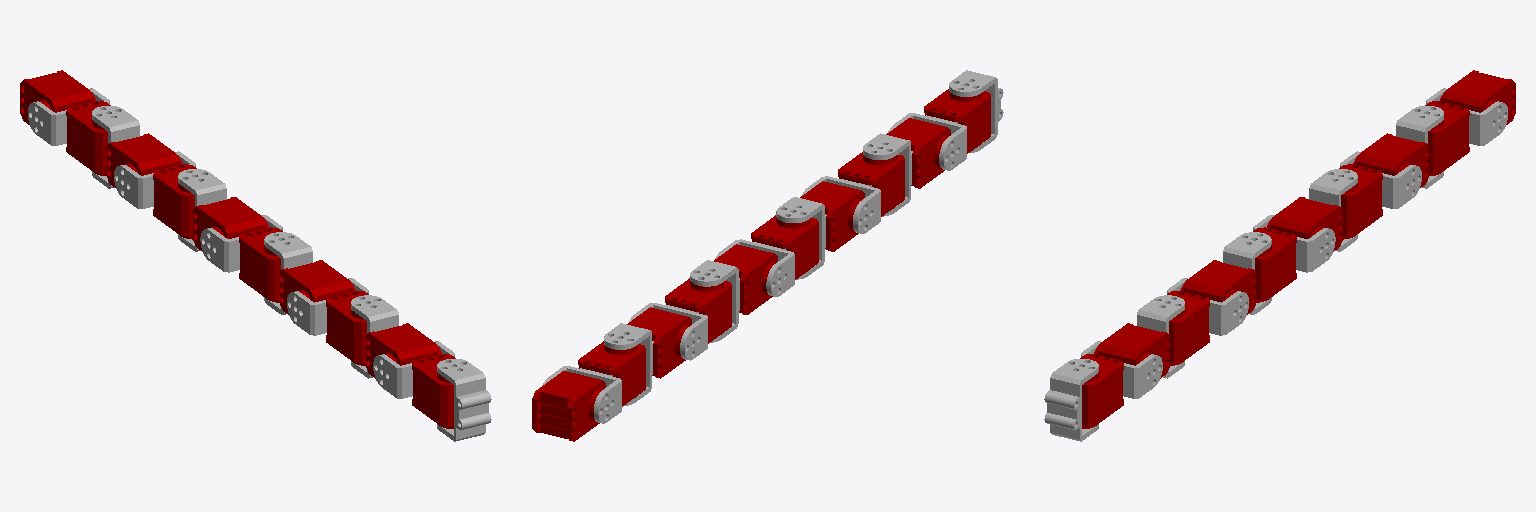
--- Render facts (derived) ---
The picture shows the robot from 3 angles, left to right: view 1: azimuth 30°, elevation 25°; view 2: azimuth 150°, elevation 25°; view 3: azimuth 330°, elevation 25°; orthographic projection.
Robot: test_robot — 21 links, 20 joints (10 revolute, 10 fixed); root link world; default pose: every joint at zero.
Links seen in each view (by area): view 1: bracket_010, dynamixel_105, dynamixel_101, dynamixel_103, dynamixel_102, dynamixel_104, dynamixel_001, dynamixel_003, dynamixel_005, dynamixel_002, dynamixel_004, bracket_007 (+8 smaller); view 2: dynamixel_001, dynamixel_103, dynamixel_101, dynamixel_104, dynamixel_102, dynamixel_105, dynamixel_005, dynamixel_002, dynamixel_004, dynamixel_003, bracket_010, bracket_004 (+8 smaller); view 3: bracket_010, dynamixel_105, dynamixel_101, dynamixel_103, dynamixel_102, dynamixel_104, dynamixel_001, dynamixel_003, dynamixel_005, dynamixel_002, dynamixel_004, bracket_007 (+8 smaller).
Link boxes in pixels (<box>): bracket_010: <box>437,359,491,441</box>; dynamixel_105: <box>412,354,455,428</box>; dynamixel_101: <box>66,101,110,175</box>; dynamixel_103: <box>239,227,282,302</box>; dynamixel_102: <box>153,164,196,239</box>; dynamixel_104: <box>326,291,368,365</box>; dynamixel_001: <box>20,70,95,124</box>; dynamixel_003: <box>193,197,268,251</box>; dynamixel_005: <box>366,323,441,378</box>; dynamixel_002: <box>107,133,182,187</box>; dynamixel_004: <box>280,260,355,314</box>; bracket_007: <box>287,278,368,335</box>; dynamixel_001: <box>532,371,605,441</box>; dynamixel_103: <box>751,215,818,279</box>; dynamixel_101: <box>578,341,645,406</box>; dynamixel_104: <box>838,152,904,216</box>; dynamixel_102: <box>665,278,731,343</box>; dynamixel_105: <box>924,89,990,153</box>; dynamixel_005: <box>886,118,950,188</box>; dynamixel_002: <box>627,307,691,378</box>; dynamixel_004: <box>800,181,864,251</box>; dynamixel_003: <box>714,244,777,314</box>; bracket_010: <box>949,70,1003,152</box>; bracket_004: <box>690,260,739,342</box>; bracket_010: <box>1044,359,1098,441</box>; dynamixel_105: <box>1080,354,1123,428</box>; dynamixel_101: <box>1425,101,1469,175</box>; dynamixel_103: <box>1253,227,1296,302</box>; dynamixel_102: <box>1339,164,1382,239</box>; dynamixel_104: <box>1167,291,1209,365</box>; dynamixel_001: <box>1440,70,1515,124</box>; dynamixel_003: <box>1267,197,1342,251</box>; dynamixel_005: <box>1094,323,1169,378</box>; dynamixel_002: <box>1353,133,1428,187</box>; dynamixel_004: <box>1180,260,1255,314</box>; bracket_007: <box>1167,278,1248,335</box>.
Size in the robot's own frame: 0.036 by 0.4632 by 0.036 metres.
20 mesh visuals loaded from 2 distinct referenced files (2 binary STL).

The robot description file, URDF, robot "test_robot":
<?xml version="1.0" encoding="utf-8"?>
<!-- =================================================================================== -->
<!-- |    This document was autogenerated by xacro from urdf/snake_stl.xacro           | -->
<!-- |    EDITING THIS FILE BY HAND IS NOT RECOMMENDED                                 | -->
<!-- =================================================================================== -->
<robot name="test_robot">
  <link name="world"/>
  <!-- マクロ関数の定義 -->
  <!-- link名 -->
  <link name="dynamixel_001">
    <!-- 見た目 -->
    <visual>
      <geometry>
        <mesh filename="package://Rviz_snake/mesh/dynamixel.stl"/>
      </geometry>
      <material name="red">
        <color rgba="0.7 0.0 0.0 1.0"/>
      </material>
      <origin rpy="0 0 0" xyz="0 0 0"/>
    </visual>
    <!--物理的特性-->
    <!--干渉-->
    <collision>
      <geometry>
        <mesh filename="package://Rviz_snake/mesh/dynamixel.stl"/>
      </geometry>
    </collision>
    <!--慣性-->
    <inertial>
      <mass value="0.023967239474"/>
      <inertia ixx="3.5392036062e-06" ixy="0" ixz="0" iyy="3.2067700889e-06" iyz="0" izz="2.5171567719e-06"/>
    </inertial>
  </link>
  <!-- link名 -->
  <link name="dynamixel_101">
    <!-- 見た目 -->
    <visual>
      <geometry>
        <mesh filename="package://Rviz_snake/mesh/dynamixel.stl"/>
      </geometry>
      <material name="red">
        <color rgba="0.7 0.0 0.0 1.0"/>
      </material>
      <origin rpy="0 0 0" xyz="0 0 0"/>
    </visual>
    <!--物理的特性-->
    <!--干渉-->
    <collision>
      <geometry>
        <mesh filename="package://Rviz_snake/mesh/dynamixel.stl"/>
      </geometry>
    </collision>
    <!--慣性-->
    <inertial>
      <mass value="0.023967239474"/>
      <inertia ixx="3.5392036062e-06" ixy="0" ixz="0" iyy="3.2067700889e-06" iyz="0" izz="2.5171567719e-06"/>
    </inertial>
  </link>
  <!-- link名 -->
  <link name="dynamixel_002">
    <!-- 見た目 -->
    <visual>
      <geometry>
        <mesh filename="package://Rviz_snake/mesh/dynamixel.stl"/>
      </geometry>
      <material name="red">
        <color rgba="0.7 0.0 0.0 1.0"/>
      </material>
      <origin rpy="0 0 0" xyz="0 0 0"/>
    </visual>
    <!--物理的特性-->
    <!--干渉-->
    <collision>
      <geometry>
        <mesh filename="package://Rviz_snake/mesh/dynamixel.stl"/>
      </geometry>
    </collision>
    <!--慣性-->
    <inertial>
      <mass value="0.023967239474"/>
      <inertia ixx="3.5392036062e-06" ixy="0" ixz="0" iyy="3.2067700889e-06" iyz="0" izz="2.5171567719e-06"/>
    </inertial>
  </link>
  <!-- link名 -->
  <link name="dynamixel_102">
    <!-- 見た目 -->
    <visual>
      <geometry>
        <mesh filename="package://Rviz_snake/mesh/dynamixel.stl"/>
      </geometry>
      <material name="red">
        <color rgba="0.7 0.0 0.0 1.0"/>
      </material>
      <origin rpy="0 0 0" xyz="0 0 0"/>
    </visual>
    <!--物理的特性-->
    <!--干渉-->
    <collision>
      <geometry>
        <mesh filename="package://Rviz_snake/mesh/dynamixel.stl"/>
      </geometry>
    </collision>
    <!--慣性-->
    <inertial>
      <mass value="0.023967239474"/>
      <inertia ixx="3.5392036062e-06" ixy="0" ixz="0" iyy="3.2067700889e-06" iyz="0" izz="2.5171567719e-06"/>
    </inertial>
  </link>
  <!-- link名 -->
  <link name="dynamixel_003">
    <!-- 見た目 -->
    <visual>
      <geometry>
        <mesh filename="package://Rviz_snake/mesh/dynamixel.stl"/>
      </geometry>
      <material name="red">
        <color rgba="0.7 0.0 0.0 1.0"/>
      </material>
      <origin rpy="0 0 0" xyz="0 0 0"/>
    </visual>
    <!--物理的特性-->
    <!--干渉-->
    <collision>
      <geometry>
        <mesh filename="package://Rviz_snake/mesh/dynamixel.stl"/>
      </geometry>
    </collision>
    <!--慣性-->
    <inertial>
      <mass value="0.023967239474"/>
      <inertia ixx="3.5392036062e-06" ixy="0" ixz="0" iyy="3.2067700889e-06" iyz="0" izz="2.5171567719e-06"/>
    </inertial>
  </link>
  <!-- link名 -->
  <link name="dynamixel_103">
    <!-- 見た目 -->
    <visual>
      <geometry>
        <mesh filename="package://Rviz_snake/mesh/dynamixel.stl"/>
      </geometry>
      <material name="red">
        <color rgba="0.7 0.0 0.0 1.0"/>
      </material>
      <origin rpy="0 0 0" xyz="0 0 0"/>
    </visual>
    <!--物理的特性-->
    <!--干渉-->
    <collision>
      <geometry>
        <mesh filename="package://Rviz_snake/mesh/dynamixel.stl"/>
      </geometry>
    </collision>
    <!--慣性-->
    <inertial>
      <mass value="0.023967239474"/>
      <inertia ixx="3.5392036062e-06" ixy="0" ixz="0" iyy="3.2067700889e-06" iyz="0" izz="2.5171567719e-06"/>
    </inertial>
  </link>
  <!-- link名 -->
  <link name="dynamixel_004">
    <!-- 見た目 -->
    <visual>
      <geometry>
        <mesh filename="package://Rviz_snake/mesh/dynamixel.stl"/>
      </geometry>
      <material name="red">
        <color rgba="0.7 0.0 0.0 1.0"/>
      </material>
      <origin rpy="0 0 0" xyz="0 0 0"/>
    </visual>
    <!--物理的特性-->
    <!--干渉-->
    <collision>
      <geometry>
        <mesh filename="package://Rviz_snake/mesh/dynamixel.stl"/>
      </geometry>
    </collision>
    <!--慣性-->
    <inertial>
      <mass value="0.023967239474"/>
      <inertia ixx="3.5392036062e-06" ixy="0" ixz="0" iyy="3.2067700889e-06" iyz="0" izz="2.5171567719e-06"/>
    </inertial>
  </link>
  <!-- link名 -->
  <link name="dynamixel_104">
    <!-- 見た目 -->
    <visual>
      <geometry>
        <mesh filename="package://Rviz_snake/mesh/dynamixel.stl"/>
      </geometry>
      <material name="red">
        <color rgba="0.7 0.0 0.0 1.0"/>
      </material>
      <origin rpy="0 0 0" xyz="0 0 0"/>
    </visual>
    <!--物理的特性-->
    <!--干渉-->
    <collision>
      <geometry>
        <mesh filename="package://Rviz_snake/mesh/dynamixel.stl"/>
      </geometry>
    </collision>
    <!--慣性-->
    <inertial>
      <mass value="0.023967239474"/>
      <inertia ixx="3.5392036062e-06" ixy="0" ixz="0" iyy="3.2067700889e-06" iyz="0" izz="2.5171567719e-06"/>
    </inertial>
  </link>
  <!-- link名 -->
  <link name="dynamixel_005">
    <!-- 見た目 -->
    <visual>
      <geometry>
        <mesh filename="package://Rviz_snake/mesh/dynamixel.stl"/>
      </geometry>
      <material name="red">
        <color rgba="0.7 0.0 0.0 1.0"/>
      </material>
      <origin rpy="0 0 0" xyz="0 0 0"/>
    </visual>
    <!--物理的特性-->
    <!--干渉-->
    <collision>
      <geometry>
        <mesh filename="package://Rviz_snake/mesh/dynamixel.stl"/>
      </geometry>
    </collision>
    <!--慣性-->
    <inertial>
      <mass value="0.023967239474"/>
      <inertia ixx="3.5392036062e-06" ixy="0" ixz="0" iyy="3.2067700889e-06" iyz="0" izz="2.5171567719e-06"/>
    </inertial>
  </link>
  <!-- link名 -->
  <link name="dynamixel_105">
    <!-- 見た目 -->
    <visual>
      <geometry>
        <mesh filename="package://Rviz_snake/mesh/dynamixel.stl"/>
      </geometry>
      <material name="red">
        <color rgba="0.7 0.0 0.0 1.0"/>
      </material>
      <origin rpy="0 0 0" xyz="0 0 0"/>
    </visual>
    <!--物理的特性-->
    <!--干渉-->
    <collision>
      <geometry>
        <mesh filename="package://Rviz_snake/mesh/dynamixel.stl"/>
      </geometry>
    </collision>
    <!--慣性-->
    <inertial>
      <mass value="0.023967239474"/>
      <inertia ixx="3.5392036062e-06" ixy="0" ixz="0" iyy="3.2067700889e-06" iyz="0" izz="2.5171567719e-06"/>
    </inertial>
  </link>
  <link name="bracket_001">
    <visual>
      <geometry>
        <mesh filename="package://Rviz_snake/mesh/adaptor.stl"/>
      </geometry>
      <material name="silver">
        <color rgba="0.75 0.75 0.75 1"/>
      </material>
      <origin rpy="0 0 0" xyz="0 0 0"/>
    </visual>
    <!--物理的特性-->
    <!--干渉-->
    <collision>
      <geometry>
        <mesh filename="package://Rviz_snake/mesh/adaptor.stl"/>
      </geometry>
    </collision>
    <!--慣性-->
    <inertial>
      <mass value="0.0060293114415"/>
      <inertia ixx="1.4057440439e-06" ixy="0" ixz="0" iyy="1.144769055e-06" iyz="0" izz="5.779531603e-07"/>
    </inertial>
  </link>
  <link name="bracket_002">
    <visual>
      <geometry>
        <mesh filename="package://Rviz_snake/mesh/adaptor.stl"/>
      </geometry>
      <material name="silver">
        <color rgba="0.75 0.75 0.75 1"/>
      </material>
      <origin rpy="0 0 0" xyz="0 0 0"/>
    </visual>
    <!--物理的特性-->
    <!--干渉-->
    <collision>
      <geometry>
        <mesh filename="package://Rviz_snake/mesh/adaptor.stl"/>
      </geometry>
    </collision>
    <!--慣性-->
    <inertial>
      <mass value="0.0060293114415"/>
      <inertia ixx="1.4057440439e-06" ixy="0" ixz="0" iyy="1.144769055e-06" iyz="0" izz="5.779531603e-07"/>
    </inertial>
  </link>
  <link name="bracket_003">
    <visual>
      <geometry>
        <mesh filename="package://Rviz_snake/mesh/adaptor.stl"/>
      </geometry>
      <material name="silver">
        <color rgba="0.75 0.75 0.75 1"/>
      </material>
      <origin rpy="0 0 0" xyz="0 0 0"/>
    </visual>
    <!--物理的特性-->
    <!--干渉-->
    <collision>
      <geometry>
        <mesh filename="package://Rviz_snake/mesh/adaptor.stl"/>
      </geometry>
    </collision>
    <!--慣性-->
    <inertial>
      <mass value="0.0060293114415"/>
      <inertia ixx="1.4057440439e-06" ixy="0" ixz="0" iyy="1.144769055e-06" iyz="0" izz="5.779531603e-07"/>
    </inertial>
  </link>
  <link name="bracket_004">
    <visual>
      <geometry>
        <mesh filename="package://Rviz_snake/mesh/adaptor.stl"/>
      </geometry>
      <material name="silver">
        <color rgba="0.75 0.75 0.75 1"/>
      </material>
      <origin rpy="0 0 0" xyz="0 0 0"/>
    </visual>
    <!--物理的特性-->
    <!--干渉-->
    <collision>
      <geometry>
        <mesh filename="package://Rviz_snake/mesh/adaptor.stl"/>
      </geometry>
    </collision>
    <!--慣性-->
    <inertial>
      <mass value="0.0060293114415"/>
      <inertia ixx="1.4057440439e-06" ixy="0" ixz="0" iyy="1.144769055e-06" iyz="0" izz="5.779531603e-07"/>
    </inertial>
  </link>
  <link name="bracket_005">
    <visual>
      <geometry>
        <mesh filename="package://Rviz_snake/mesh/adaptor.stl"/>
      </geometry>
      <material name="silver">
        <color rgba="0.75 0.75 0.75 1"/>
      </material>
      <origin rpy="0 0 0" xyz="0 0 0"/>
    </visual>
    <!--物理的特性-->
    <!--干渉-->
    <collision>
      <geometry>
        <mesh filename="package://Rviz_snake/mesh/adaptor.stl"/>
      </geometry>
    </collision>
    <!--慣性-->
    <inertial>
      <mass value="0.0060293114415"/>
      <inertia ixx="1.4057440439e-06" ixy="0" ixz="0" iyy="1.144769055e-06" iyz="0" izz="5.779531603e-07"/>
    </inertial>
  </link>
  <link name="bracket_006">
    <visual>
      <geometry>
        <mesh filename="package://Rviz_snake/mesh/adaptor.stl"/>
      </geometry>
      <material name="silver">
        <color rgba="0.75 0.75 0.75 1"/>
      </material>
      <origin rpy="0 0 0" xyz="0 0 0"/>
    </visual>
    <!--物理的特性-->
    <!--干渉-->
    <collision>
      <geometry>
        <mesh filename="package://Rviz_snake/mesh/adaptor.stl"/>
      </geometry>
    </collision>
    <!--慣性-->
    <inertial>
      <mass value="0.0060293114415"/>
      <inertia ixx="1.4057440439e-06" ixy="0" ixz="0" iyy="1.144769055e-06" iyz="0" izz="5.779531603e-07"/>
    </inertial>
  </link>
  <link name="bracket_007">
    <visual>
      <geometry>
        <mesh filename="package://Rviz_snake/mesh/adaptor.stl"/>
      </geometry>
      <material name="silver">
        <color rgba="0.75 0.75 0.75 1"/>
      </material>
      <origin rpy="0 0 0" xyz="0 0 0"/>
    </visual>
    <!--物理的特性-->
    <!--干渉-->
    <collision>
      <geometry>
        <mesh filename="package://Rviz_snake/mesh/adaptor.stl"/>
      </geometry>
    </collision>
    <!--慣性-->
    <inertial>
      <mass value="0.0060293114415"/>
      <inertia ixx="1.4057440439e-06" ixy="0" ixz="0" iyy="1.144769055e-06" iyz="0" izz="5.779531603e-07"/>
    </inertial>
  </link>
  <link name="bracket_008">
    <visual>
      <geometry>
        <mesh filename="package://Rviz_snake/mesh/adaptor.stl"/>
      </geometry>
      <material name="silver">
        <color rgba="0.75 0.75 0.75 1"/>
      </material>
      <origin rpy="0 0 0" xyz="0 0 0"/>
    </visual>
    <!--物理的特性-->
    <!--干渉-->
    <collision>
      <geometry>
        <mesh filename="package://Rviz_snake/mesh/adaptor.stl"/>
      </geometry>
    </collision>
    <!--慣性-->
    <inertial>
      <mass value="0.0060293114415"/>
      <inertia ixx="1.4057440439e-06" ixy="0" ixz="0" iyy="1.144769055e-06" iyz="0" izz="5.779531603e-07"/>
    </inertial>
  </link>
  <link name="bracket_009">
    <visual>
      <geometry>
        <mesh filename="package://Rviz_snake/mesh/adaptor.stl"/>
      </geometry>
      <material name="silver">
        <color rgba="0.75 0.75 0.75 1"/>
      </material>
      <origin rpy="0 0 0" xyz="0 0 0"/>
    </visual>
    <!--物理的特性-->
    <!--干渉-->
    <collision>
      <geometry>
        <mesh filename="package://Rviz_snake/mesh/adaptor.stl"/>
      </geometry>
    </collision>
    <!--慣性-->
    <inertial>
      <mass value="0.0060293114415"/>
      <inertia ixx="1.4057440439e-06" ixy="0" ixz="0" iyy="1.144769055e-06" iyz="0" izz="5.779531603e-07"/>
    </inertial>
  </link>
  <link name="bracket_010">
    <visual>
      <geometry>
        <mesh filename="package://Rviz_snake/mesh/adaptor.stl"/>
      </geometry>
      <material name="silver">
        <color rgba="0.75 0.75 0.75 1"/>
      </material>
      <origin rpy="0 0 0" xyz="0 0 0"/>
    </visual>
    <!--物理的特性-->
    <!--干渉-->
    <collision>
      <geometry>
        <mesh filename="package://Rviz_snake/mesh/adaptor.stl"/>
      </geometry>
    </collision>
    <!--慣性-->
    <inertial>
      <mass value="0.0060293114415"/>
      <inertia ixx="1.4057440439e-06" ixy="0" ixz="0" iyy="1.144769055e-06" iyz="0" izz="5.779531603e-07"/>
    </inertial>
  </link>
  <!--ジョイントの定義-->
  <!--ワールドとリンク1-->
  <joint name="fixed_000" type="fixed">
    <parent link="world"/>
    <child link="dynamixel_001"/>
    <origin rpy="0 0 -1.57079632679" xyz="0 0 0"/>
    <limit effort="0" lower="-1.57079632679" upper="1.57079632679" velocity="0"/>
  </joint>
  <joint name="joint_001" type="revolute">
    <axis xyz="0 1 0"/>
    <parent link="dynamixel_001"/>
    <child link="bracket_001"/>
    <origin rpy="0 0 0" xyz="0.0248 0 0"/>
    <limit effort="0" lower="-1.57079632679" upper="1.57079632679" velocity="0"/>
  </joint>
  <joint name="fixed_001" type="fixed">
    <parent link="bracket_001"/>
    <child link="dynamixel_101"/>
    <origin rpy="1.57079632679 0 0" xyz="0.021 0 0"/>
    <limit effort="0" lower="-1.57079632679" upper="1.57079632679" velocity="0"/>
  </joint>
  <joint name="joint_002" type="revolute">
    <axis xyz="0 1 0"/>
    <parent link="dynamixel_101"/>
    <child link="bracket_002"/>
    <origin rpy="0 0 0" xyz="0.0248 0 0"/>
    <limit effort="0" lower="-1.57079632679" upper="1.57079632679" velocity="0"/>
  </joint>
  <joint name="fixed_002" type="fixed">
    <parent link="bracket_002"/>
    <child link="dynamixel_002"/>
    <origin rpy="-1.57079632679 0 0" xyz="0.021 0 0"/>
    <limit effort="0" lower="-1.57079632679" upper="1.57079632679" velocity="0"/>
  </joint>
  <joint name="joint_003" type="revolute">
    <axis xyz="0 1 0"/>
    <parent link="dynamixel_002"/>
    <child link="bracket_003"/>
    <origin rpy="0 0 0" xyz="0.0248 0 0"/>
    <limit effort="0" lower="-1.57079632679" upper="1.57079632679" velocity="0"/>
  </joint>
  <joint name="fixed_003" type="fixed">
    <parent link="bracket_003"/>
    <child link="dynamixel_102"/>
    <origin rpy="1.57079632679 0 0" xyz="0.021 0 0"/>
    <limit effort="0" lower="-1.57079632679" upper="1.57079632679" velocity="0"/>
  </joint>
  <joint name="joint_004" type="revolute">
    <axis xyz="0 1 0"/>
    <parent link="dynamixel_102"/>
    <child link="bracket_004"/>
    <origin rpy="0 0 0" xyz="0.0248 0 0"/>
    <limit effort="0" lower="-1.57079632679" upper="1.57079632679" velocity="0"/>
  </joint>
  <joint name="fixed_004" type="fixed">
    <parent link="bracket_004"/>
    <child link="dynamixel_003"/>
    <origin rpy="-1.57079632679 0 0" xyz="0.021 0 0"/>
    <limit effort="0" lower="-1.57079632679" upper="1.57079632679" velocity="0"/>
  </joint>
  <joint name="joint_005" type="revolute">
    <axis xyz="0 1 0"/>
    <parent link="dynamixel_003"/>
    <child link="bracket_005"/>
    <origin rpy="0 0 0" xyz="0.0248 0 0"/>
    <limit effort="0" lower="-1.57079632679" upper="1.57079632679" velocity="0"/>
  </joint>
  <joint name="fixed_005" type="fixed">
    <parent link="bracket_005"/>
    <child link="dynamixel_103"/>
    <origin rpy="1.57079632679 0 0" xyz="0.021 0 0"/>
    <limit effort="0" lower="-1.57079632679" upper="1.57079632679" velocity="0"/>
  </joint>
  <joint name="joint_006" type="revolute">
    <axis xyz="0 1 0"/>
    <parent link="dynamixel_103"/>
    <child link="bracket_006"/>
    <origin rpy="0 0 0" xyz="0.0248 0 0"/>
    <limit effort="0" lower="-1.57079632679" upper="1.57079632679" velocity="0"/>
  </joint>
  <joint name="fixed_006" type="fixed">
    <parent link="bracket_006"/>
    <child link="dynamixel_004"/>
    <origin rpy="-1.57079632679 0 0" xyz="0.021 0 0"/>
    <limit effort="0" lower="-1.57079632679" upper="1.57079632679" velocity="0"/>
  </joint>
  <joint name="joint_007" type="revolute">
    <axis xyz="0 1 0"/>
    <parent link="dynamixel_004"/>
    <child link="bracket_007"/>
    <origin rpy="0 0 0" xyz="0.0248 0 0"/>
    <limit effort="0" lower="-1.57079632679" upper="1.57079632679" velocity="0"/>
  </joint>
  <joint name="fixed_007" type="fixed">
    <parent link="bracket_007"/>
    <child link="dynamixel_104"/>
    <origin rpy="1.57079632679 0 0" xyz="0.021 0 0"/>
    <limit effort="0" lower="-1.57079632679" upper="1.57079632679" velocity="0"/>
  </joint>
  <joint name="joint_008" type="revolute">
    <axis xyz="0 1 0"/>
    <parent link="dynamixel_104"/>
    <child link="bracket_008"/>
    <origin rpy="0 0 0" xyz="0.0248 0 0"/>
    <limit effort="0" lower="-1.57079632679" upper="1.57079632679" velocity="0"/>
  </joint>
  <joint name="fixed_008" type="fixed">
    <parent link="bracket_008"/>
    <child link="dynamixel_005"/>
    <origin rpy="-1.57079632679 0 0" xyz="0.021 0 0"/>
    <limit effort="0" lower="-1.57079632679" upper="1.57079632679" velocity="0"/>
  </joint>
  <joint name="joint_009" type="revolute">
    <axis xyz="0 1 0"/>
    <parent link="dynamixel_005"/>
    <child link="bracket_009"/>
    <origin rpy="0 0 0" xyz="0.0248 0 0"/>
    <limit effort="0" lower="-1.57079632679" upper="1.57079632679" velocity="0"/>
  </joint>
  <joint name="fixed_009" type="fixed">
    <parent link="bracket_009"/>
    <child link="dynamixel_105"/>
    <origin rpy="1.57079632679 0 0" xyz="0.021 0 0"/>
    <limit effort="0" lower="-1.57079632679" upper="1.57079632679" velocity="0"/>
  </joint>
  <joint name="joint_010" type="revolute">
    <axis xyz="0 1 0"/>
    <parent link="dynamixel_105"/>
    <child link="bracket_010"/>
    <origin rpy="0 0 0" xyz="0.0248 0 0"/>
    <limit effort="0" lower="-1.57079632679" upper="1.57079632679" velocity="0"/>
  </joint>
  <transmission name="motor_001">
    <type>transmission_interface/SimpleTransmission</type>
    <!--関節の指定-->
    <joint name="joint_001">
      <hardwareInterface>hardware_interface/PositionJointInterface</hardwareInterface>
    </joint>
    <!--アクチュエータの定義（ギア比1の減速機）-->
    <actuator name="trans_001">
      <hardwareInterface>PositionJointInterface</hardwareInterface>
      <mechanicalReduction>1</mechanicalReduction>
    </actuator>
  </transmission>
  <transmission name="motor_002">
    <type>transmission_interface/SimpleTransmission</type>
    <!--関節の指定-->
    <joint name="joint_002">
      <hardwareInterface>hardware_interface/PositionJointInterface</hardwareInterface>
    </joint>
    <!--アクチュエータの定義（ギア比1の減速機）-->
    <actuator name="trans_002">
      <hardwareInterface>PositionJointInterface</hardwareInterface>
      <mechanicalReduction>1</mechanicalReduction>
    </actuator>
  </transmission>
  <transmission name="motor_003">
    <type>transmission_interface/SimpleTransmission</type>
    <!--関節の指定-->
    <joint name="joint_003">
      <hardwareInterface>hardware_interface/PositionJointInterface</hardwareInterface>
    </joint>
    <!--アクチュエータの定義（ギア比1の減速機）-->
    <actuator name="trans_003">
      <hardwareInterface>PositionJointInterface</hardwareInterface>
      <mechanicalReduction>1</mechanicalReduction>
    </actuator>
  </transmission>
  <transmission name="motor_004">
    <type>transmission_interface/SimpleTransmission</type>
    <!--関節の指定-->
    <joint name="joint_004">
      <hardwareInterface>hardware_interface/PositionJointInterface</hardwareInterface>
    </joint>
    <!--アクチュエータの定義（ギア比1の減速機）-->
    <actuator name="trans_004">
      <hardwareInterface>PositionJointInterface</hardwareInterface>
      <mechanicalReduction>1</mechanicalReduction>
    </actuator>
  </transmission>
  <transmission name="motor_005">
    <type>transmission_interface/SimpleTransmission</type>
    <!--関節の指定-->
    <joint name="joint_005">
      <hardwareInterface>hardware_interface/PositionJointInterface</hardwareInterface>
    </joint>
    <!--アクチュエータの定義（ギア比1の減速機）-->
    <actuator name="trans_005">
      <hardwareInterface>PositionJointInterface</hardwareInterface>
      <mechanicalReduction>1</mechanicalReduction>
    </actuator>
  </transmission>
  <transmission name="motor_006">
    <type>transmission_interface/SimpleTransmission</type>
    <!--関節の指定-->
    <joint name="joint_006">
      <hardwareInterface>hardware_interface/PositionJointInterface</hardwareInterface>
    </joint>
    <!--アクチュエータの定義（ギア比1の減速機）-->
    <actuator name="trans_006">
      <hardwareInterface>PositionJointInterface</hardwareInterface>
      <mechanicalReduction>1</mechanicalReduction>
    </actuator>
  </transmission>
  <transmission name="motor_007">
    <type>transmission_interface/SimpleTransmission</type>
    <!--関節の指定-->
    <joint name="joint_007">
      <hardwareInterface>hardware_interface/PositionJointInterface</hardwareInterface>
    </joint>
    <!--アクチュエータの定義（ギア比1の減速機）-->
    <actuator name="trans_007">
      <hardwareInterface>PositionJointInterface</hardwareInterface>
      <mechanicalReduction>1</mechanicalReduction>
    </actuator>
  </transmission>
  <transmission name="motor_008">
    <type>transmission_interface/SimpleTransmission</type>
    <!--関節の指定-->
    <joint name="joint_008">
      <hardwareInterface>hardware_interface/PositionJointInterface</hardwareInterface>
    </joint>
    <!--アクチュエータの定義（ギア比1の減速機）-->
    <actuator name="trans_008">
      <hardwareInterface>PositionJointInterface</hardwareInterface>
      <mechanicalReduction>1</mechanicalReduction>
    </actuator>
  </transmission>
  <transmission name="motor_009">
    <type>transmission_interface/SimpleTransmission</type>
    <!--関節の指定-->
    <joint name="joint_009">
      <hardwareInterface>hardware_interface/PositionJointInterface</hardwareInterface>
    </joint>
    <!--アクチュエータの定義（ギア比1の減速機）-->
    <actuator name="trans_009">
      <hardwareInterface>PositionJointInterface</hardwareInterface>
      <mechanicalReduction>1</mechanicalReduction>
    </actuator>
  </transmission>
  <transmission name="motor_010">
    <type>transmission_interface/SimpleTransmission</type>
    <!--関節の指定-->
    <joint name="joint_010">
      <hardwareInterface>hardware_interface/PositionJointInterface</hardwareInterface>
    </joint>
    <!--アクチュエータの定義（ギア比1の減速機）-->
    <actuator name="trans_010">
      <hardwareInterface>PositionJointInterface</hardwareInterface>
      <mechanicalReduction>1</mechanicalReduction>
    </actuator>
  </transmission>
  <gazebo>
    <!--関節状態配信プラグインを指定-->
    <plugin filename="libgazebo_ros_joint_state_publisher.so" name="joint_state_publisher">
      <!--対象とする関節名を指定-->
      <jointName>
      ['joint_001', 'joint_002', 'joint_003', 'joint_004', 'joint_005', 'joint_006', 'joint_007', 'joint_008', 'joint_009', 'joint_010']
      </jointName>
    </plugin>
  </gazebo>
</robot>
